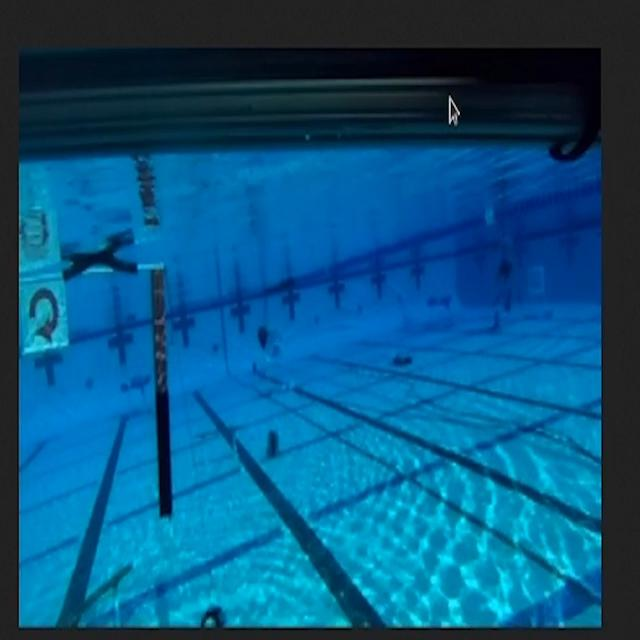Gate: (19, 252, 188, 538)
Path: (50, 556, 134, 628)
